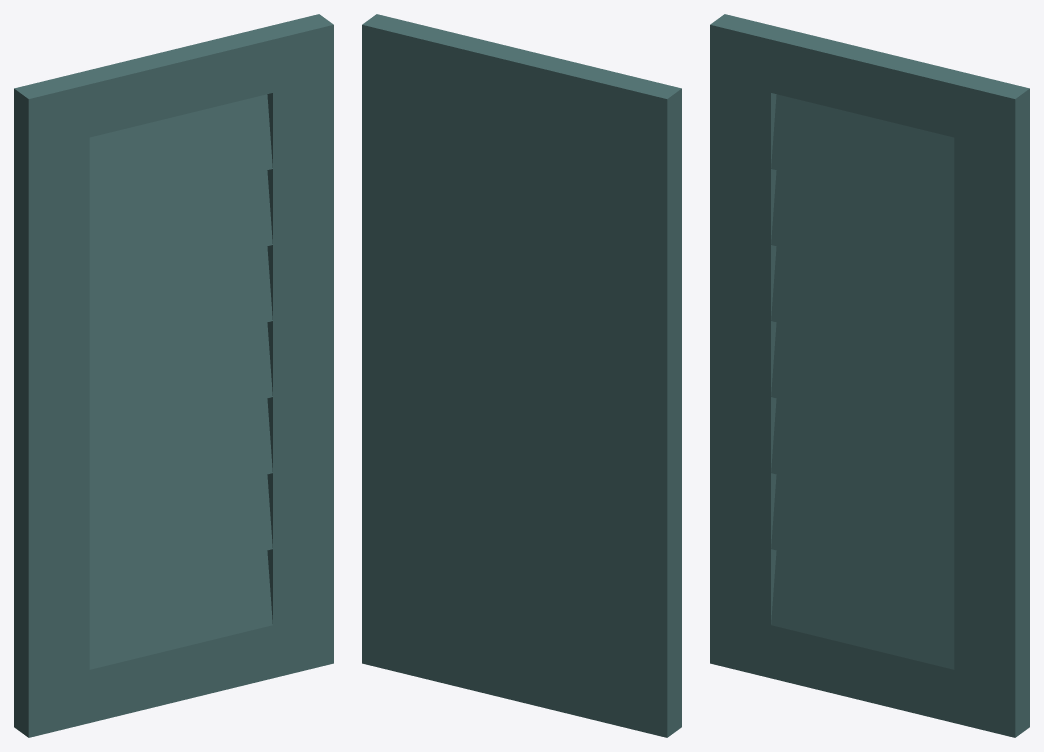
The model's file is fantasy_window_shutter_r.fbx.
3 views of the same model, side by side, from view 1: azimuth 30°, elevation 25°; view 2: azimuth 150°, elevation 25°; view 3: azimuth 330°, elevation 25° (orthographic).
Parts seen in each view (by area): view 1: Cube.241; view 2: Cube.241; view 3: Cube.241.
Boxes of the visible parts, bbox=[...] form: Cube.241: bbox=[14, 14, 333, 737]; Cube.241: bbox=[362, 14, 681, 737]; Cube.241: bbox=[710, 14, 1029, 737].
Bounding box in the file's own units: 60 × 120 × 5.
